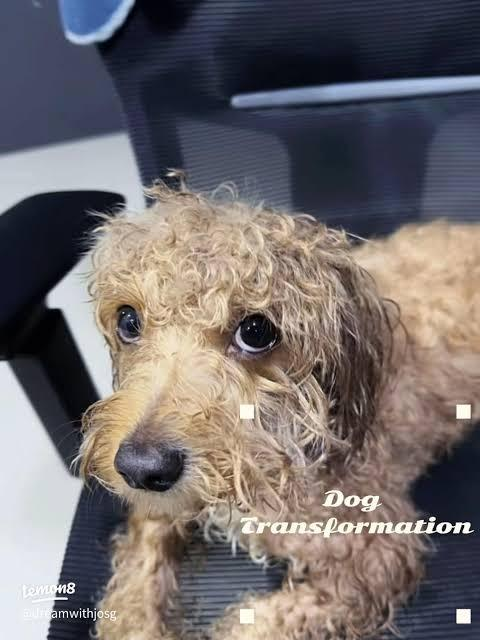adult_dog: (68, 171, 480, 640)
